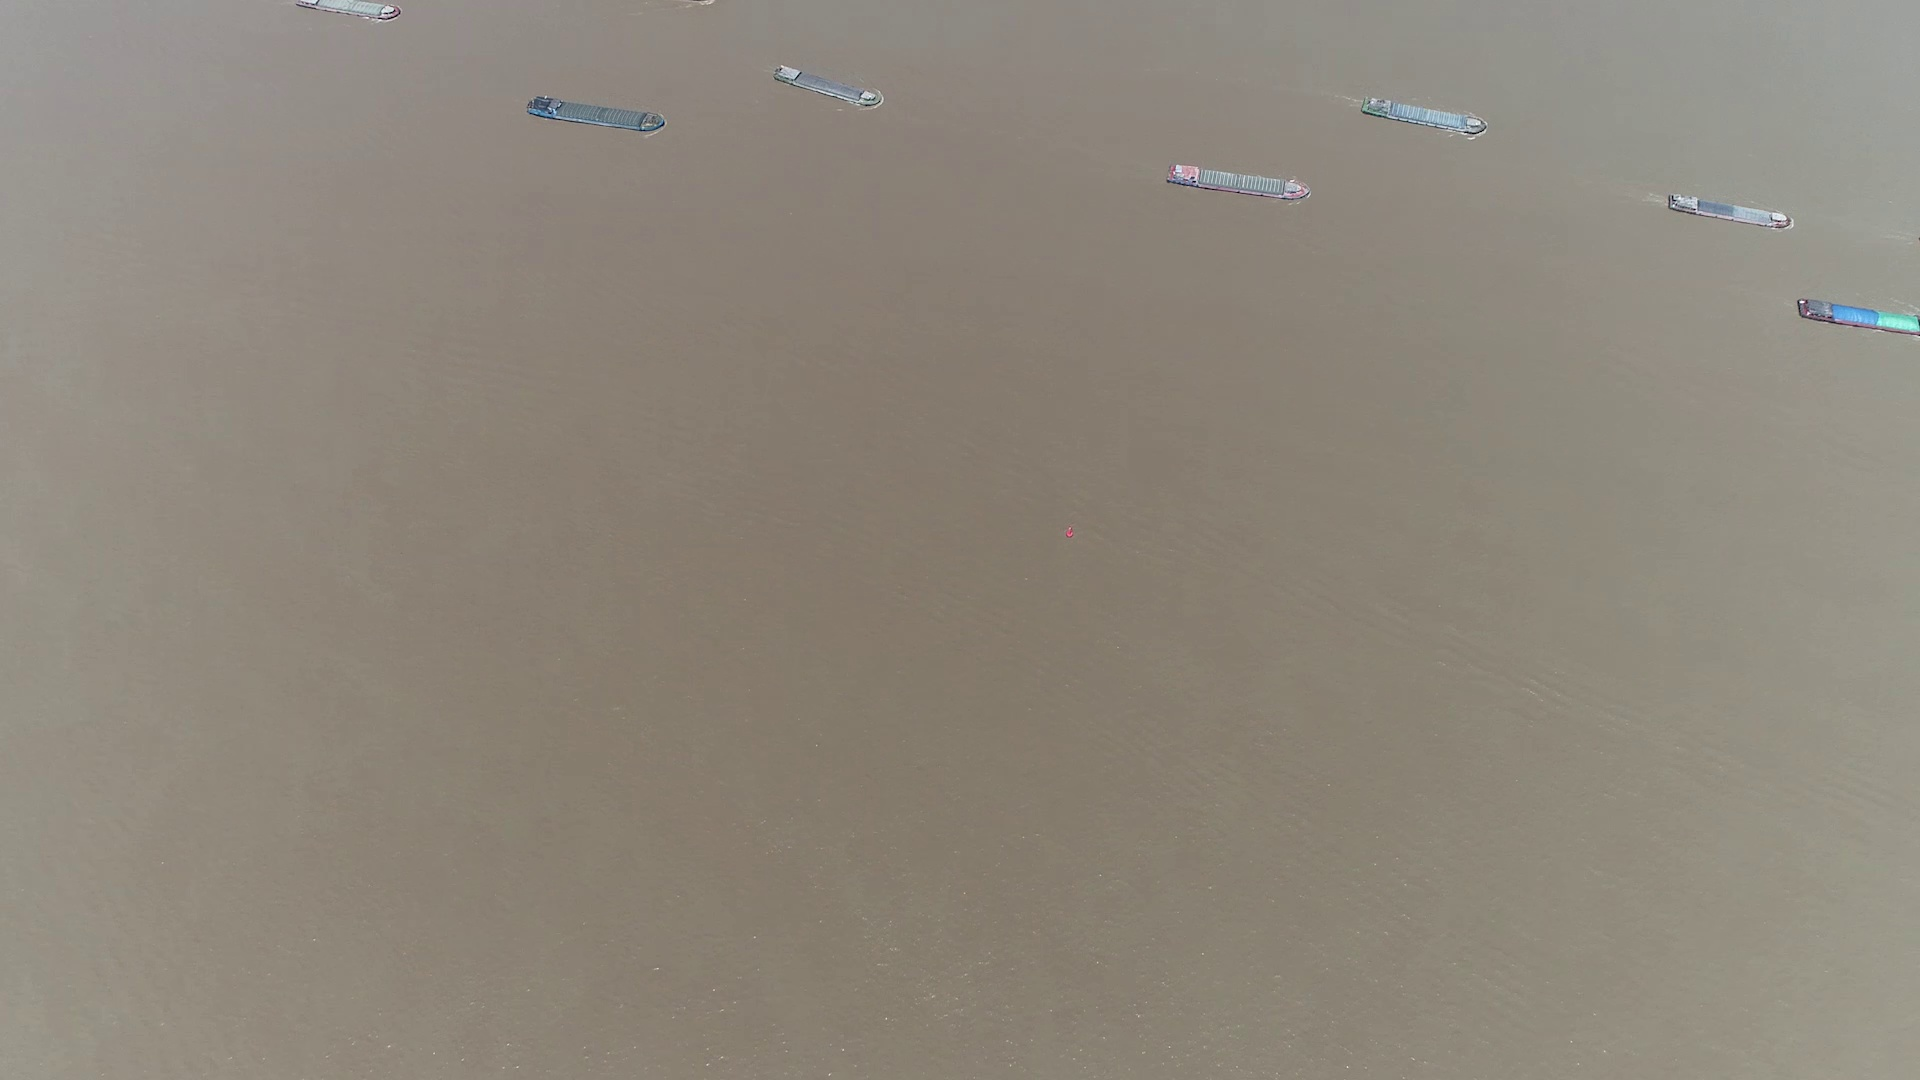ship: (1164, 160, 1312, 203), (527, 95, 665, 135), (1361, 94, 1487, 136), (774, 63, 886, 109), (1797, 297, 1917, 338), (1665, 193, 1793, 228), (297, 0, 400, 18)
